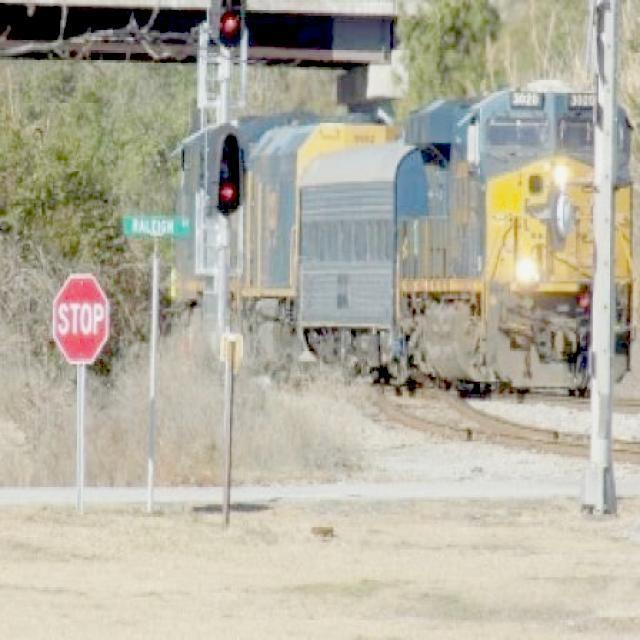Stop-Sign: (52, 274, 110, 364)
